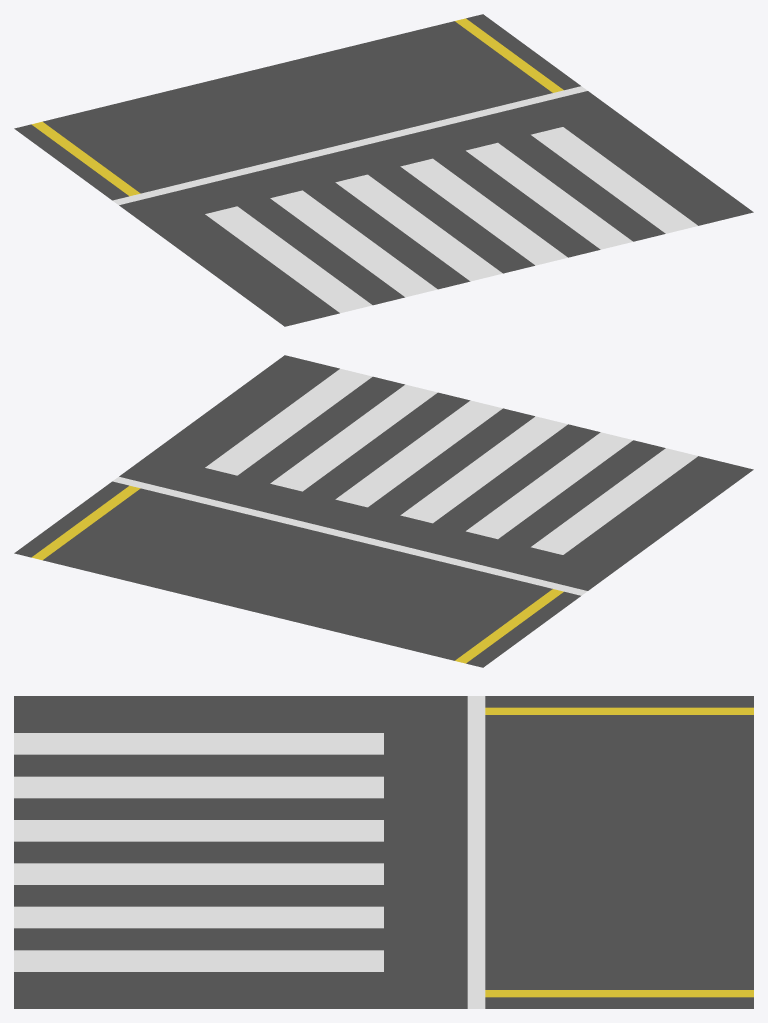
Rendered from road_002.FBX.
3 views of the same model, one above another, from view 1: azimuth 30°, elevation 25°; view 2: azimuth 150°, elevation 25°; view 3: azimuth 270°, elevation 25° (orthographic). The views are drawn at different scales.
Visible parts, largest first — view 1: road_002; view 2: road_002; view 3: road_002.
Boxes of the visible parts, <box> form: road_002: <box>14,14,753,326</box>; road_002: <box>14,355,753,667</box>; road_002: <box>14,696,753,1008</box>.
Bounding box in the file's own units: 500 × 2.19e-05 × 500.
